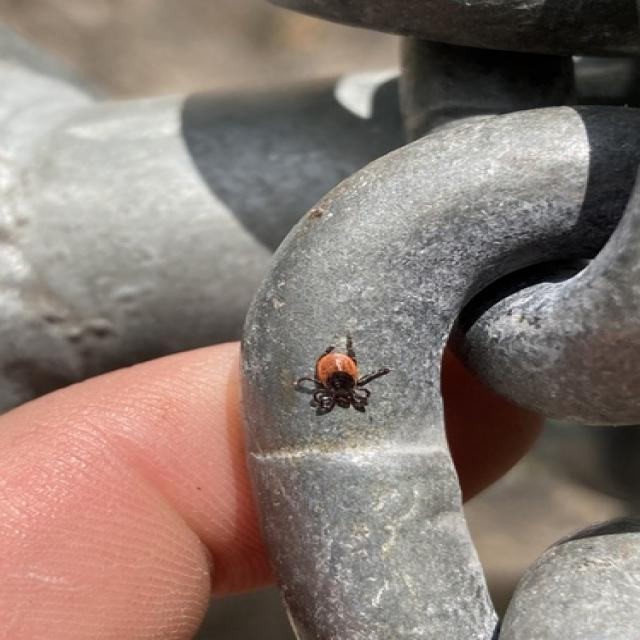Ixodes Ricinus-F: (295, 335, 391, 420)
